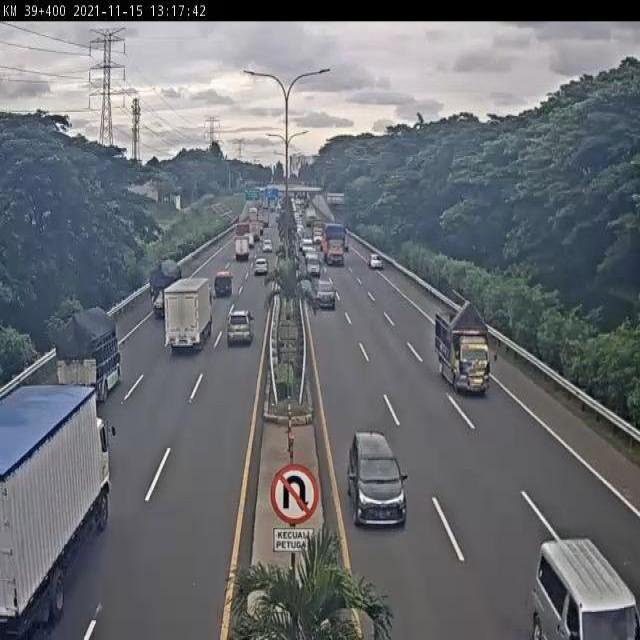car: (347, 429, 407, 528), (225, 308, 254, 347), (314, 279, 338, 312), (305, 253, 322, 280), (367, 251, 385, 273)
truck-m-: (0, 382, 129, 626), (53, 305, 120, 404), (435, 298, 492, 398), (163, 278, 215, 354), (149, 259, 180, 317), (322, 222, 349, 266)
truck-s-: (214, 268, 234, 297)
